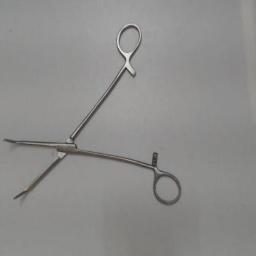Lahey Forceps: (1, 22, 185, 208)
